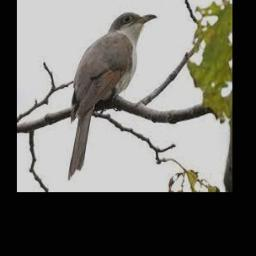Cuckoo: (68, 12, 157, 180)
